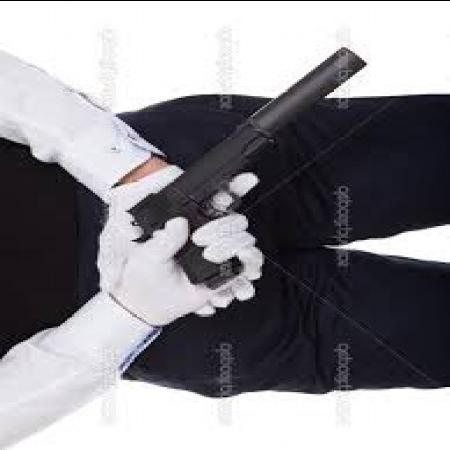Pistol: (123, 41, 364, 286)
